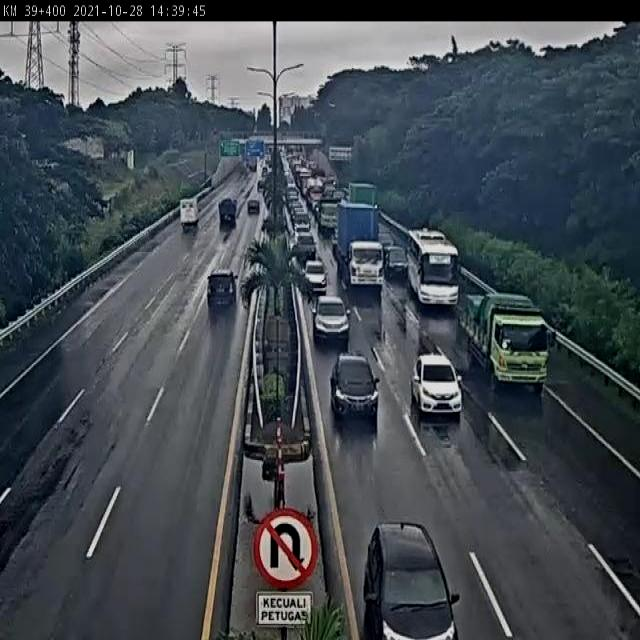Bus: (406, 228, 458, 308)
Car: (360, 512, 461, 640), (406, 352, 465, 423), (326, 352, 381, 426), (309, 292, 353, 350), (206, 267, 242, 316), (302, 255, 329, 296), (382, 244, 408, 279), (297, 233, 318, 255), (248, 198, 263, 216)
Truck: (456, 288, 558, 393), (336, 203, 386, 289), (318, 197, 338, 236), (178, 197, 202, 229), (217, 197, 237, 226)
